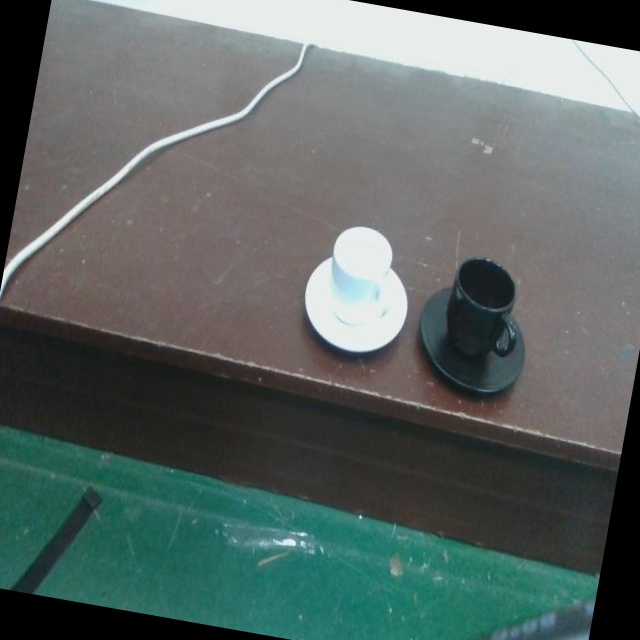black: (417, 254, 532, 394)
white: (305, 223, 412, 355)
